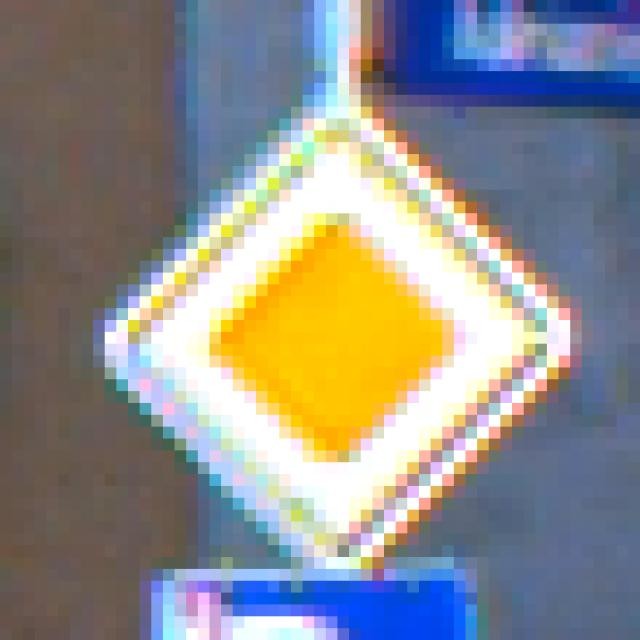Main Road: (71, 60, 583, 582)
